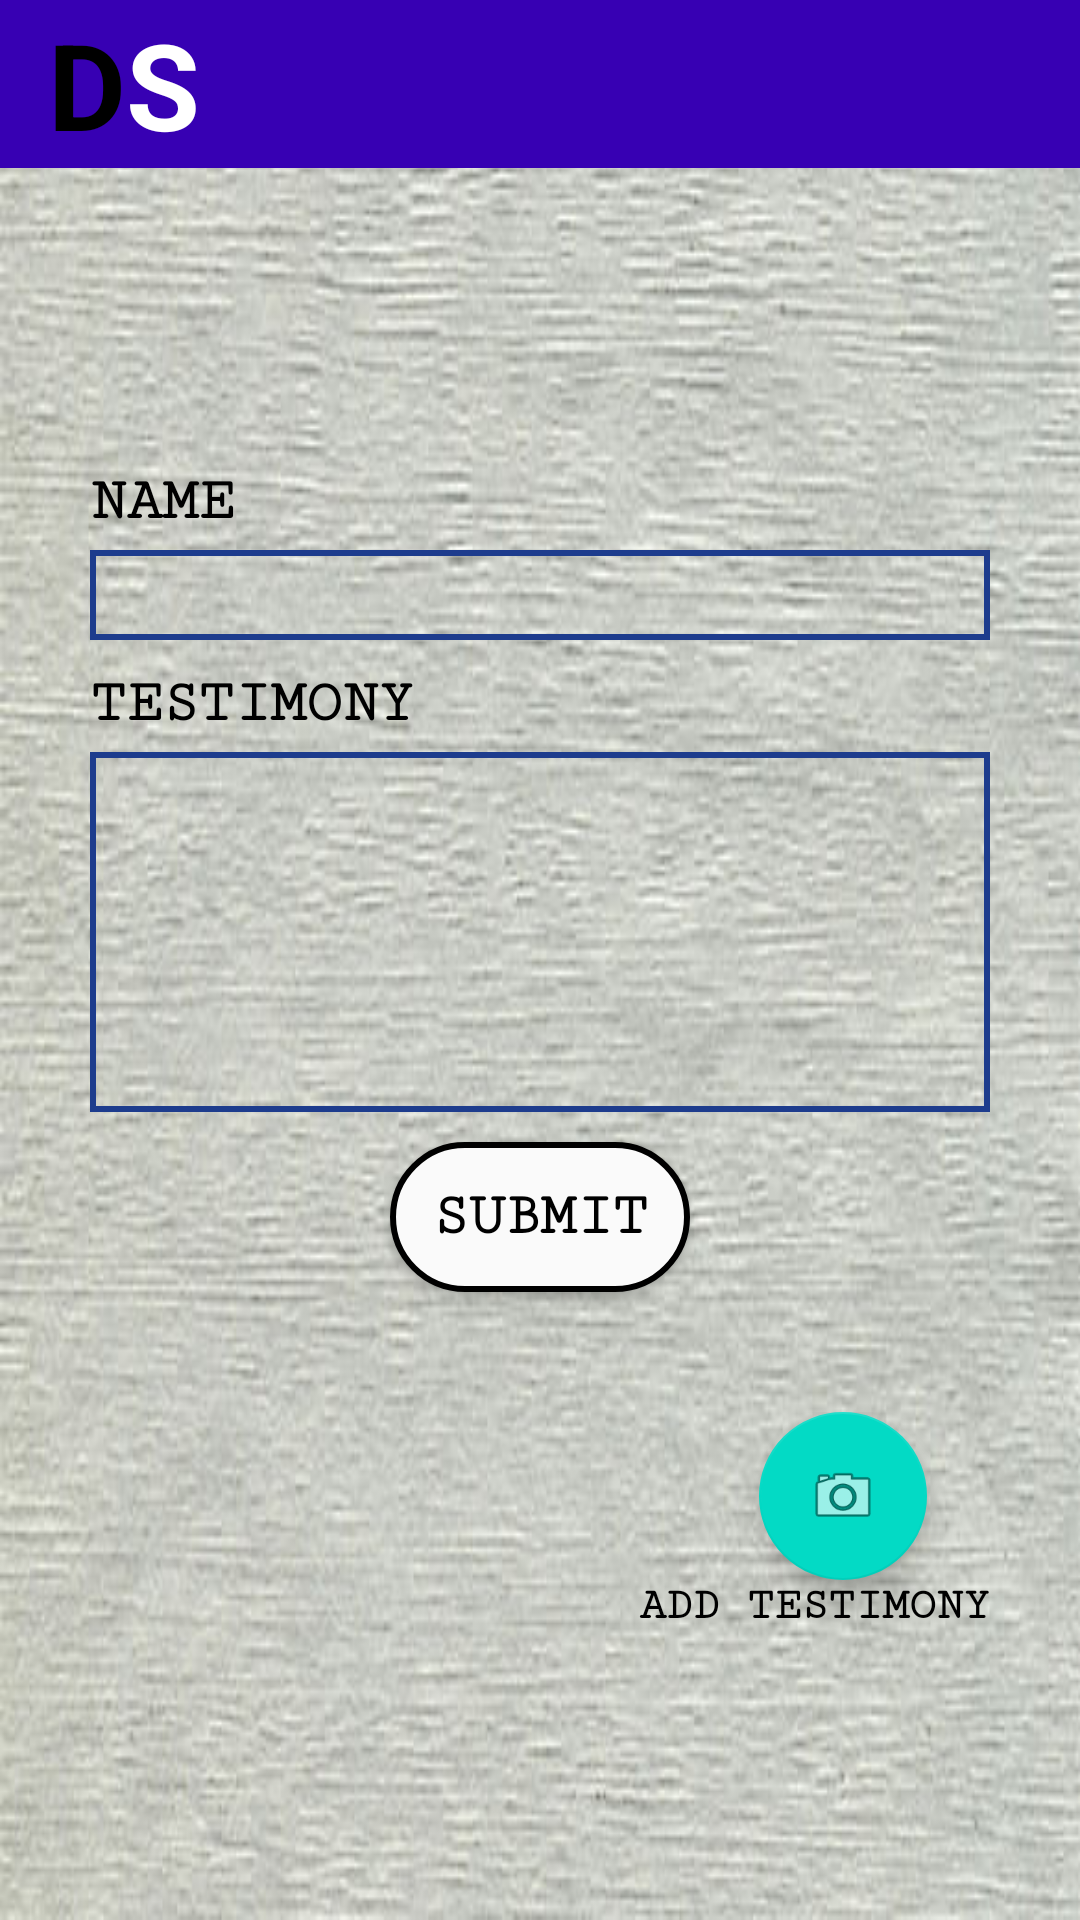

Where to tap for icons on this 1080*1920 app screen, as point (x, y):
camera: point (843, 1496)
